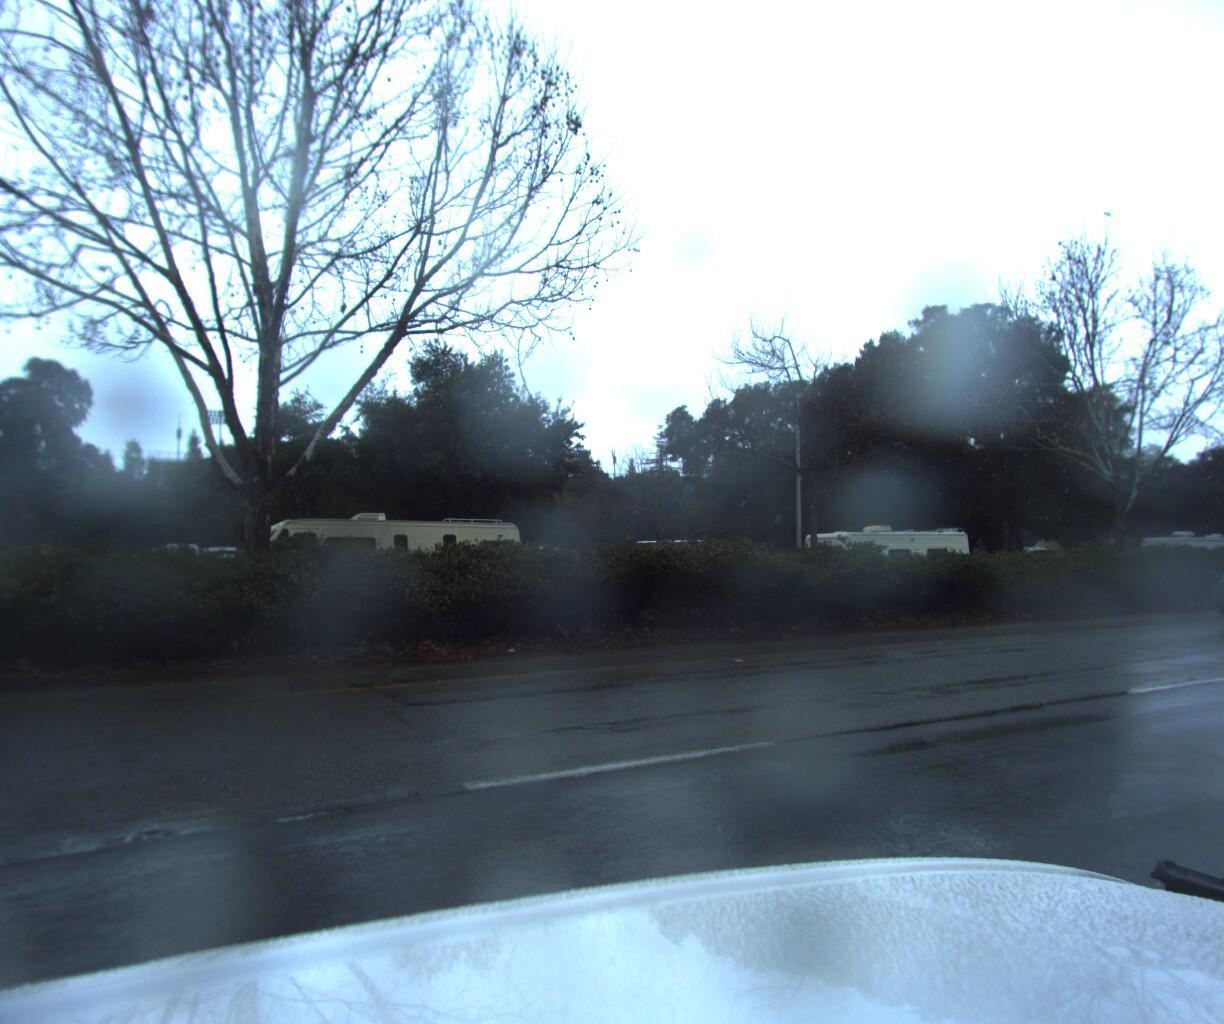car: (191, 541, 269, 584), (1191, 542, 1224, 640)
other_vehicle: (236, 506, 531, 630), (791, 519, 982, 605), (1126, 523, 1224, 584)
